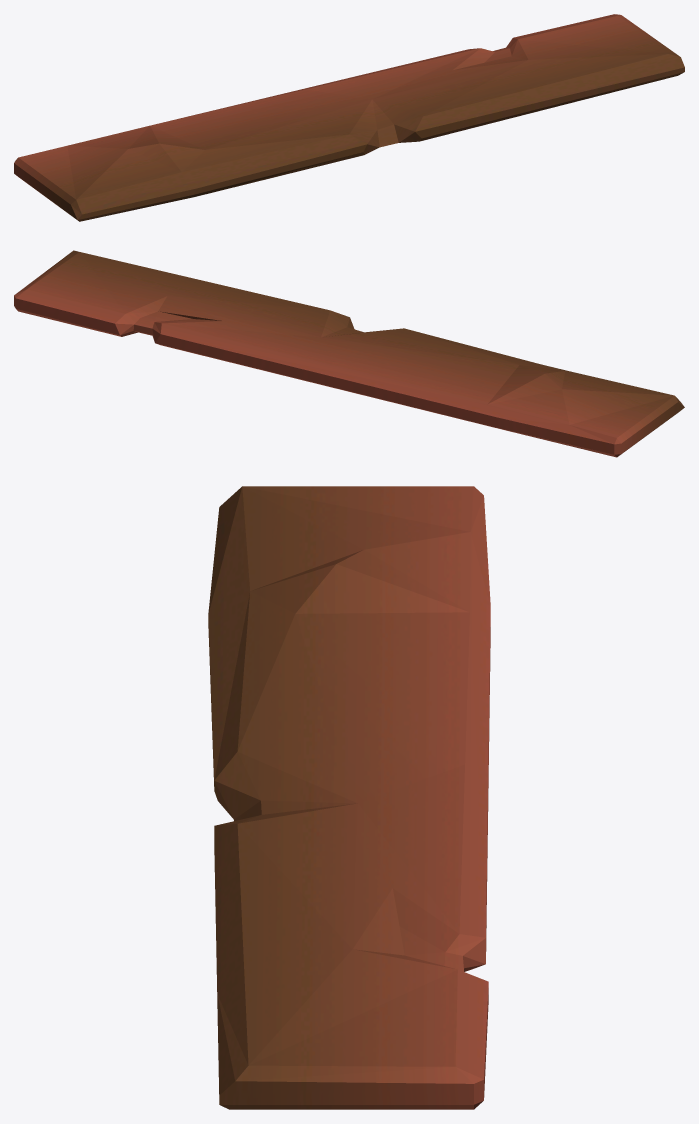
3 views of the same model, one above another, from view 1: azimuth 30°, elevation 25°; view 2: azimuth 150°, elevation 25°; view 3: azimuth 270°, elevation 25° (orthographic). The views are drawn at different scales.
Parts seen in each view (by area): view 1: OldWoodPlank1; view 2: OldWoodPlank1; view 3: OldWoodPlank1.
Boxes of the visible parts, <box> form: OldWoodPlank1: <box>14,14,684,221</box>; OldWoodPlank1: <box>14,250,684,457</box>; OldWoodPlank1: <box>208,486,490,1109</box>.
Bounding box in the file's own units: 200 × 11.5 × 40.29.
Materials: 1 (1 with a texture image).
